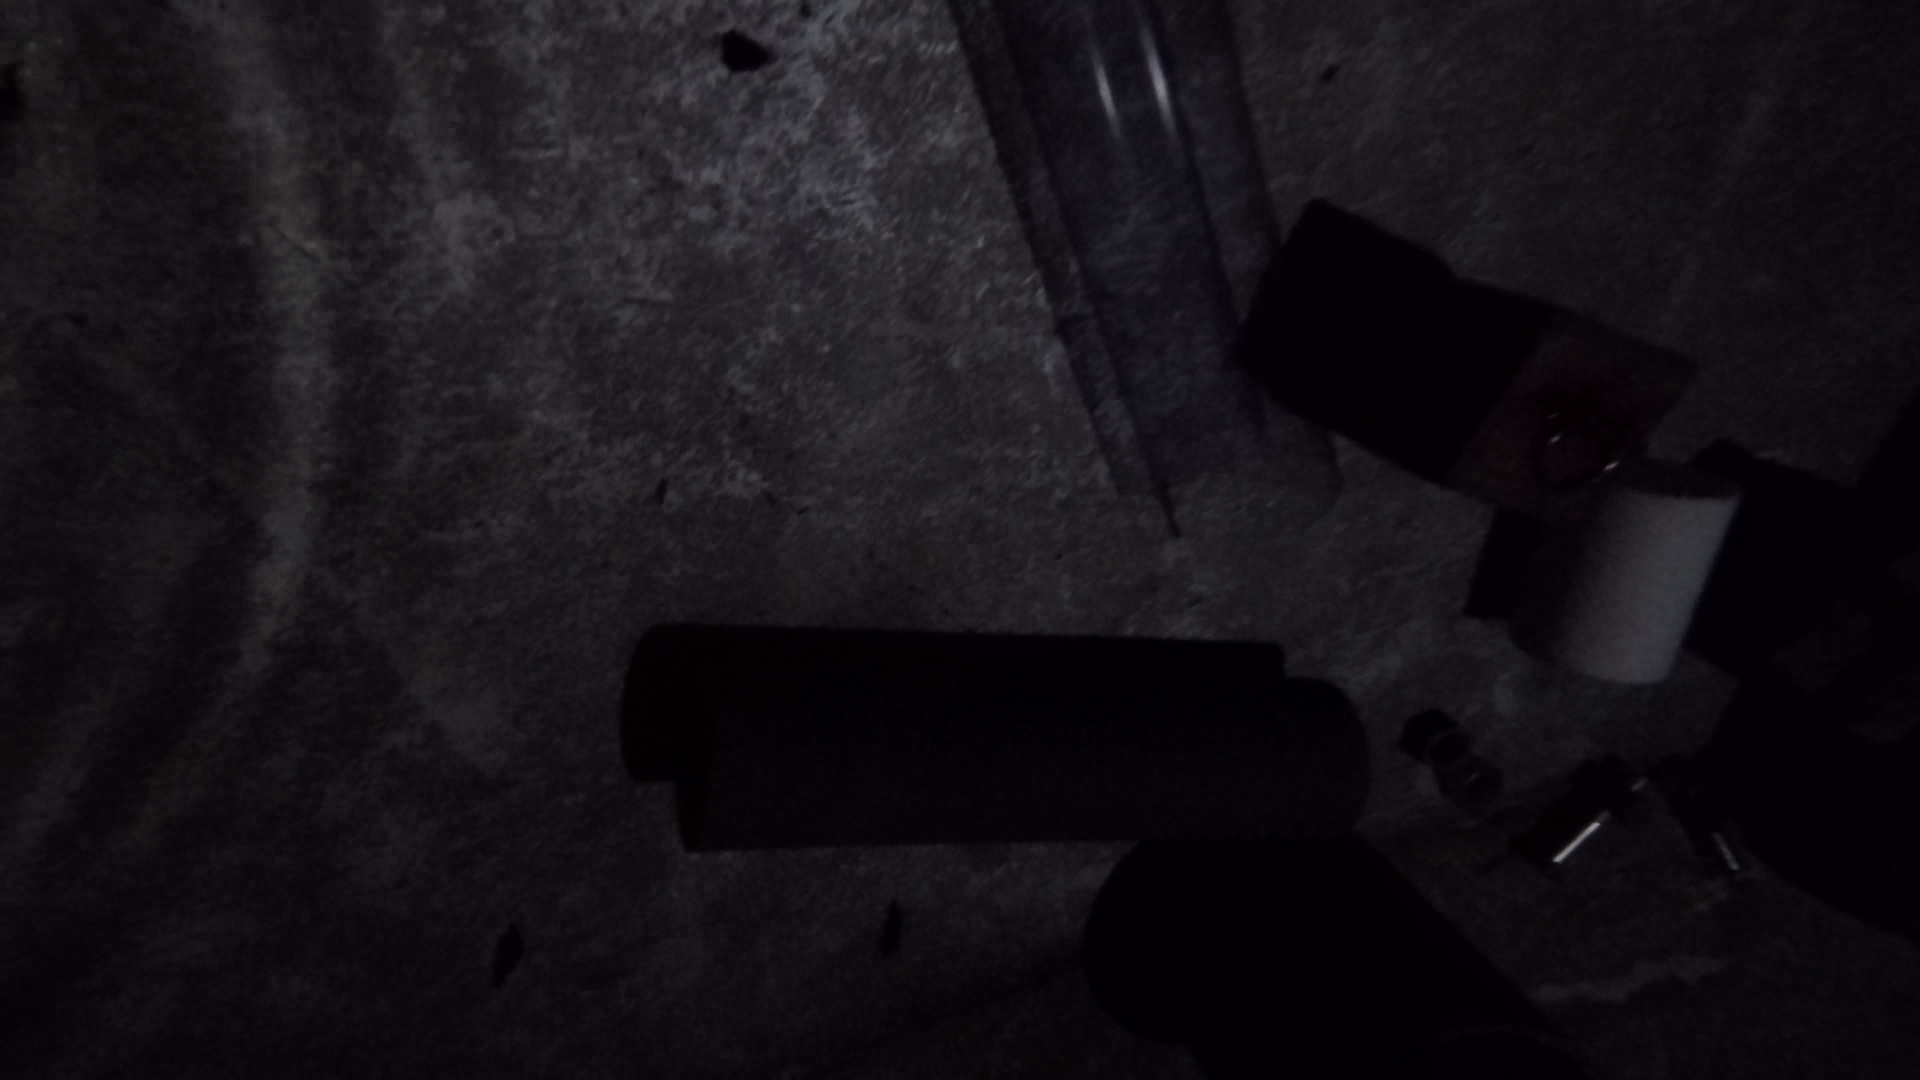bolt: (1532, 756, 1647, 885), (1659, 781, 1760, 890)
led_block: (1418, 274, 1692, 521)
nut: (1408, 711, 1474, 767), (1590, 773, 1646, 829), (1452, 762, 1506, 814)
pipe: (986, 1, 1356, 545), (669, 651, 1371, 866), (1054, 819, 1592, 1080), (1520, 462, 1742, 683)
